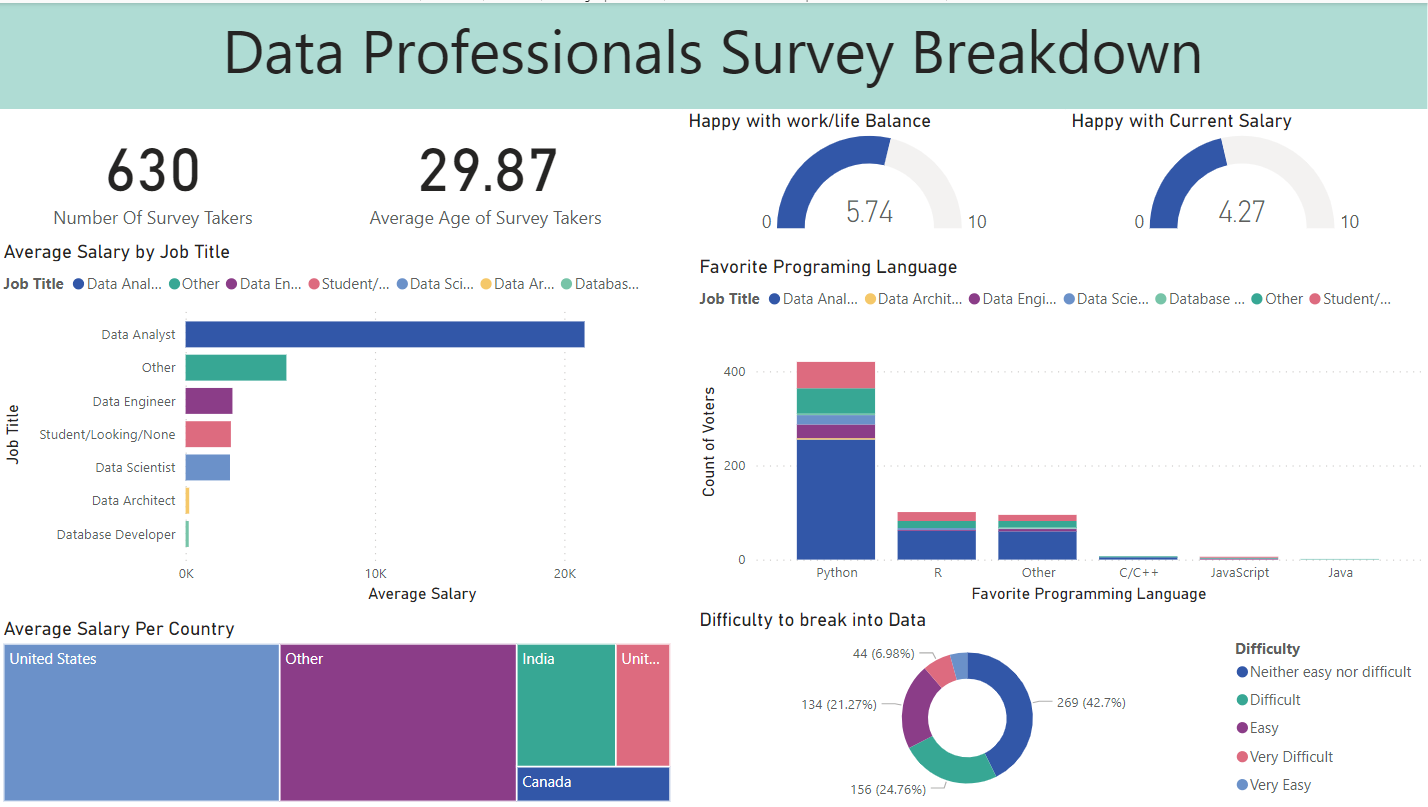

The page's visual inventory and layout, read from the dashboard file:
{"tool":"powerbi","page":{"name":"Page 1","canvas":[1280,720],"ordinal":0},"visuals":[{"type":"textbox","box":[277.2,675,113.8,31.1],"z":0},{"type":"textbox","box":[0,0,1280,95.3],"z":1},{"type":"card","fields":{"Values":["Count(Data Professional Survey.Unique ID)"]},"box":[0,95.3,277.2,116.7],"z":2},{"type":"card","fields":{"Values":["Avg(Data Professional Survey.Q10 - Current Age)"]},"box":[264.6,95.3,349.2,116.7],"z":3},{"type":"barChart","title":"Average Salary by Job Title","fields":{"Category":["Data Professional Survey.Q1 - Which Title Best Fits your Current Role?.1"],"Y":["Sum(Data Professional Survey.Avarage Salary)"],"Series":["Data Professional Survey.Q1 - Which Title Best Fits your Current Role?.1"]},"box":[0,212,606.9,329.7],"z":4},{"type":"columnChart","title":"Favorite Programing Language","fields":{"Category":["Data Professional Survey.Q5 - Favorite Programming Language.1"],"Y":["CountNonNull(Data Professional Survey.Unique ID)"],"Series":["Data Professional Survey.Q1 - Which Title Best Fits your Current Role?.1"]},"box":[623.5,225.7,656.5,316.1],"z":5},{"type":"treemap","title":"Average Salary Per Country","fields":{"Values":["CountNonNull(Data Professional Survey.Q11 - Which Country do you live in?.1)"],"Details":["Data Professional Survey.Q11 - Which Country do you live in?.1"]},"box":[0,549.5,606.9,170.2],"z":6},{"type":"gauge","title":"Happy with work/life Balance","fields":{"Y":["Avg(Data Professional Survey.Q6 - How Happy are you in your Current Position with the following? (Work/Life Balance))"],"MinValue":["Min(Data Professional Survey.Q6 - How Happy are you in your Current Position with the following? (Work/Life Balance))"],"MaxValue":["Max(Data Professional Survey.Q6 - How Happy are you in your Current Position with the following? (Work/Life Balance))"]},"box":[613.7,95.3,342.4,116.7],"z":7},{"type":"gauge","title":"Happy with Current  Salary","fields":{"Y":["Avg(Data Professional Survey.Q6 - How Happy are you in your Current Position with the following? (Salary))"],"MinValue":["Min(Data Professional Survey.Q6 - How Happy are you in your Current Position with the following? (Salary))"],"MaxValue":["Max(Data Professional Survey.Q6 - How Happy are you in your Current Position with the following? (Salary))"]},"box":[956.1,95.3,323.9,116.7],"z":8},{"type":"donutChart","title":"Difficulty to break into Data","fields":{"Category":["Data Professional Survey.Q7 - How difficult was it for you to break into Data?"],"Y":["CountNonNull(Data Professional Survey.Q7 - How difficult was it for you to break into Data?)"]},"box":[623.5,541.8,656.5,178],"z":9}]}

Visuals, with their boxes in screenshot pixels (x1, y1, x2, y2), scaled from the page's 1280x720 canvas onto the 1428x807 screenshot:
textbox: {"x1": 309, "y1": 757, "x2": 436, "y2": 791}
textbox: {"x1": 0, "y1": 0, "x2": 1427, "y2": 107}
card - Count(Data Professional Survey.Unique ID): {"x1": 0, "y1": 107, "x2": 309, "y2": 238}
card - Avg(Data Professional Survey.Q10 - Current Age): {"x1": 295, "y1": 107, "x2": 685, "y2": 238}
"Average Salary by Job Title" barChart: {"x1": 0, "y1": 238, "x2": 677, "y2": 607}
"Favorite Programing Language" columnChart: {"x1": 696, "y1": 253, "x2": 1427, "y2": 607}
"Average Salary Per Country" treemap: {"x1": 0, "y1": 616, "x2": 677, "y2": 806}
"Happy with work/life Balance" gauge: {"x1": 685, "y1": 107, "x2": 1067, "y2": 238}
"Happy with Current  Salary" gauge: {"x1": 1067, "y1": 107, "x2": 1427, "y2": 238}
"Difficulty to break into Data" donutChart: {"x1": 696, "y1": 607, "x2": 1427, "y2": 806}
